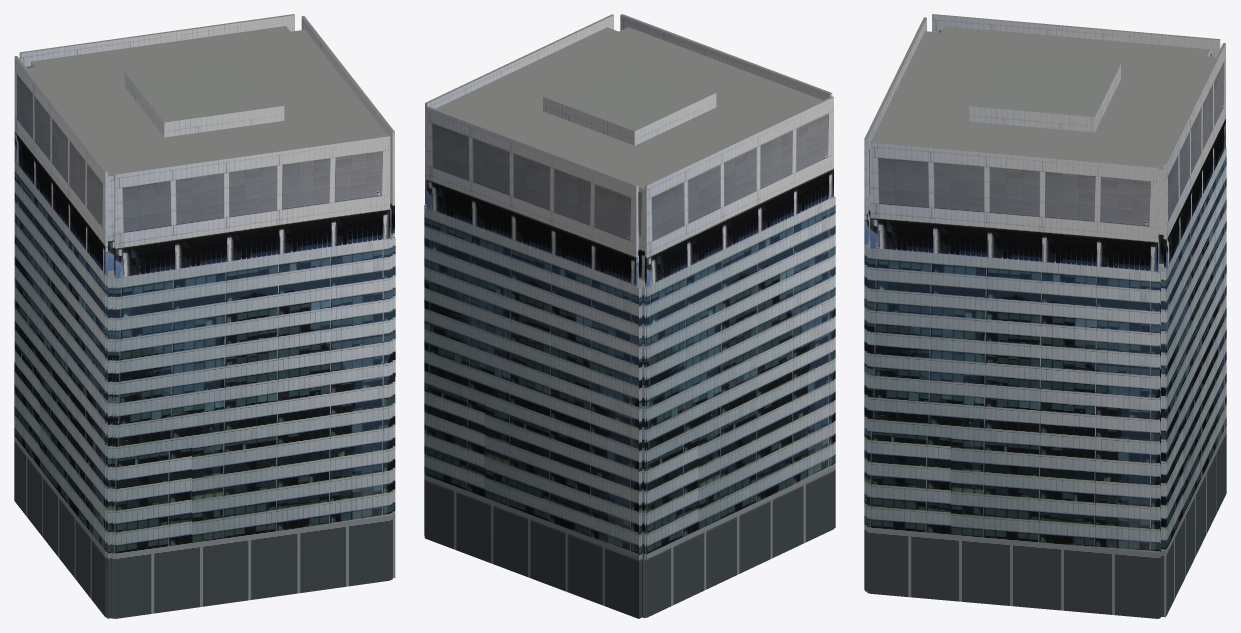
3 renders of one model, left to right at view 1: azimuth 30°, elevation 25°; view 2: azimuth 150°, elevation 25°; view 3: azimuth 270°, elevation 25°, orthographic. The views are drawn at different scales.
Visible parts, largest first — view 1: geometry_0; view 2: geometry_0; view 3: geometry_0.
Part boxes in pixels (x1,y1,x2,y2): geometry_0: (14,14,395,618); geometry_0: (424,14,835,618); geometry_0: (864,14,1226,618).
Size of the model in its own units: 65.26 by 90.55 by 65.13.
1 material, 1 textured.
